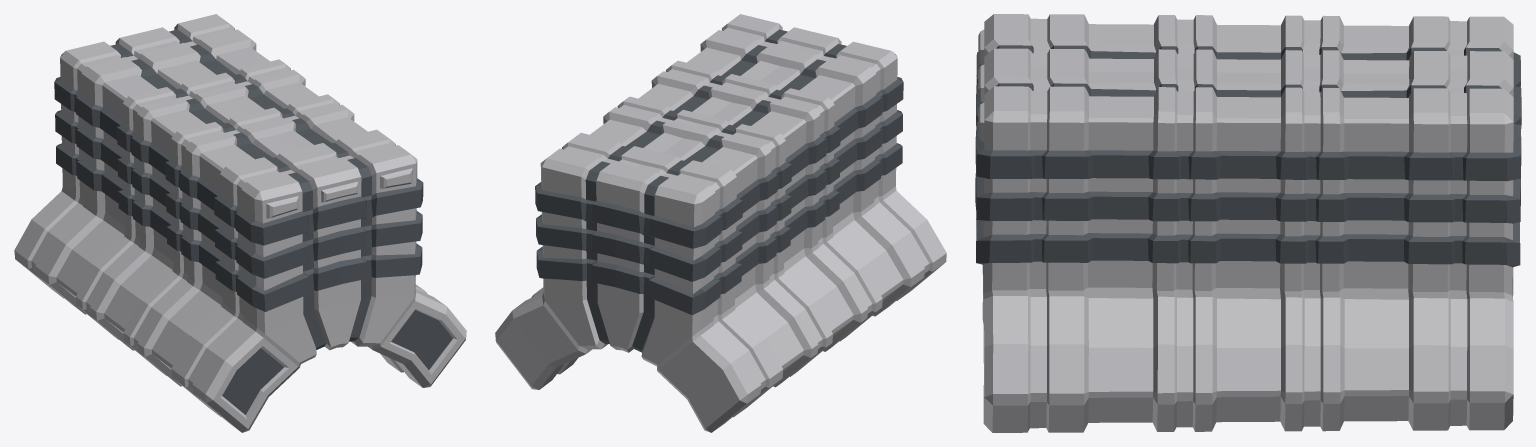
The model's file is Fighter_03_Engine.fbx.
The picture shows the model from 3 angles, left to right: view 1: azimuth 30°, elevation 25°; view 2: azimuth 150°, elevation 25°; view 3: azimuth 270°, elevation 25°; orthographic projection. The views are drawn at different scales.
Visible parts, largest first — view 1: Fighter_03_Engine; view 2: Fighter_03_Engine; view 3: Fighter_03_Engine.
Boxes of the visible parts, x1,y1,x2,y2 form: Fighter_03_Engine: [14, 14, 466, 432]; Fighter_03_Engine: [495, 14, 946, 432]; Fighter_03_Engine: [975, 14, 1521, 432].
Bounding box in the file's own units: 344 × 298 × 475.
1 material, 1 textured.
